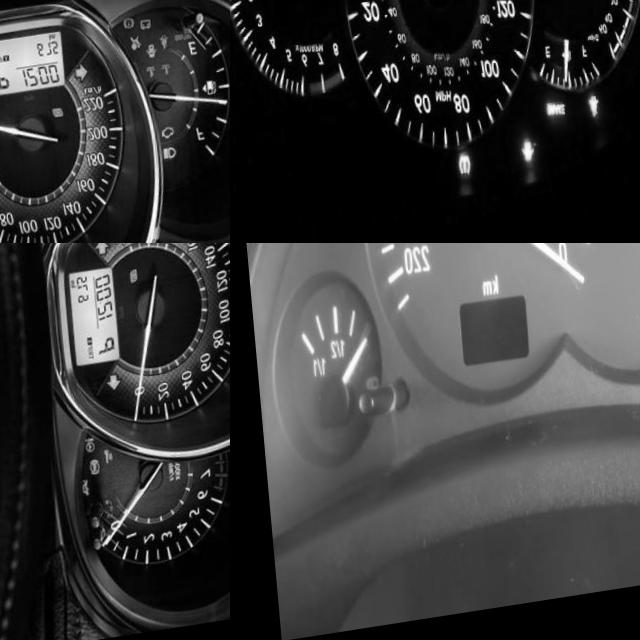Electronic Power Steering: (76, 443, 88, 459)
High Engine Coolant Temperature: (142, 79, 153, 92)
Seat Belt: (578, 109, 592, 133), (155, 49, 166, 65)
